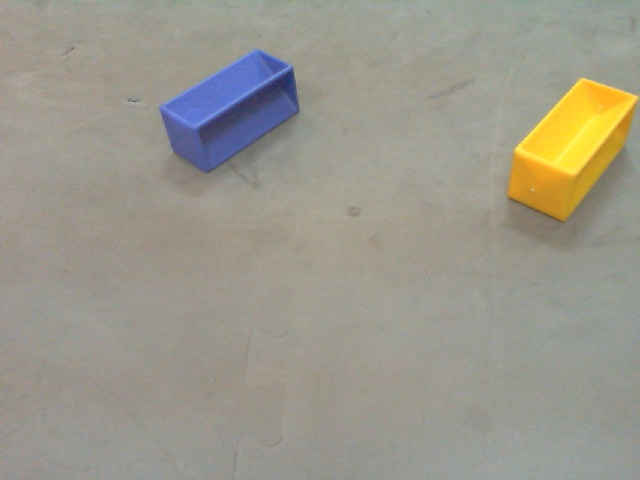BlueSample: (159, 47, 308, 176)
YellowSample: (503, 72, 640, 222)
